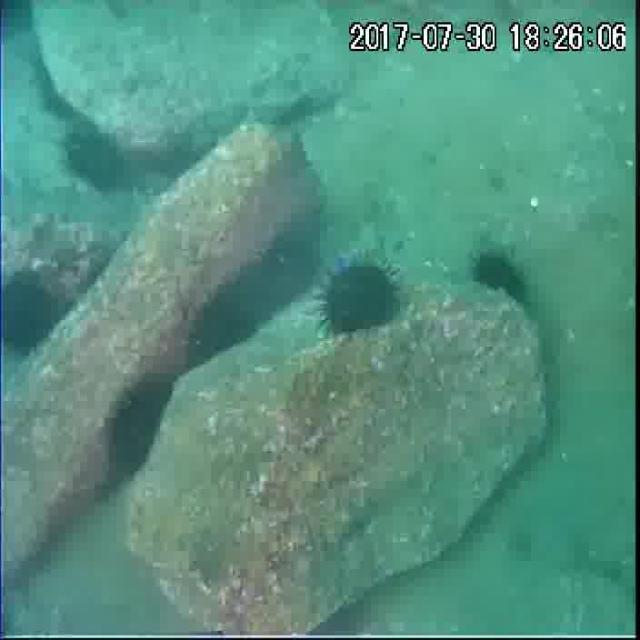echinus: (105, 378, 177, 476), (321, 263, 398, 338), (1, 271, 65, 357), (191, 290, 256, 372), (61, 122, 131, 196), (260, 231, 317, 301), (473, 243, 529, 304)
